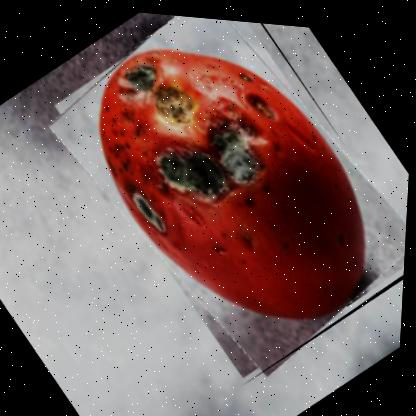tomato_rotten: (33, 3, 415, 394)
